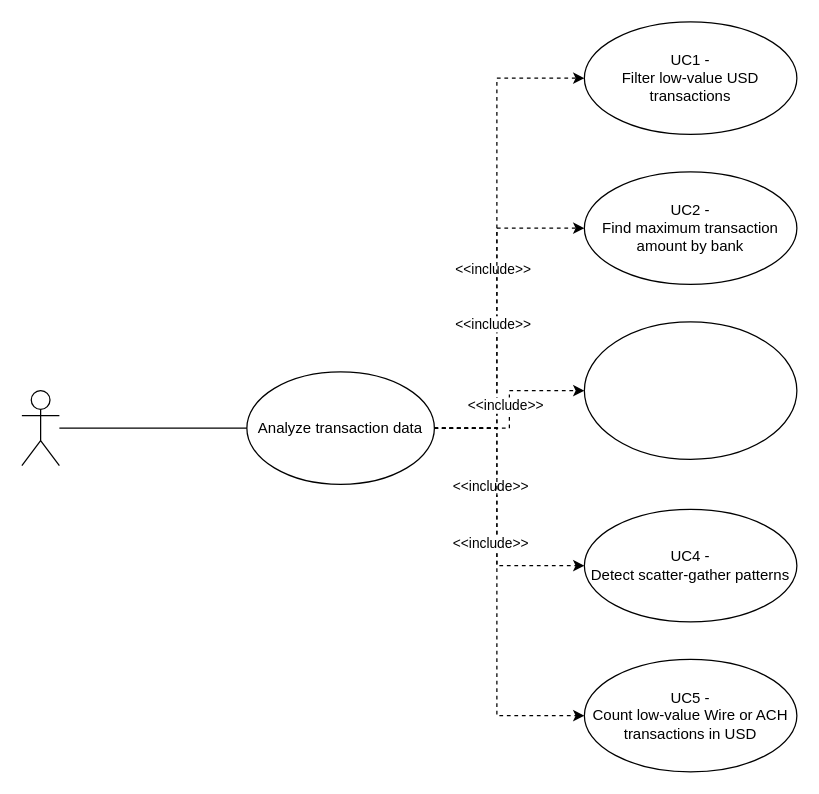
This 819x794 diagram has some shape labels left out. Each missing label, with the centre of its shape:
Client: point 40,427
UC3 - Detect transactions below format average threshold: point 690,390
